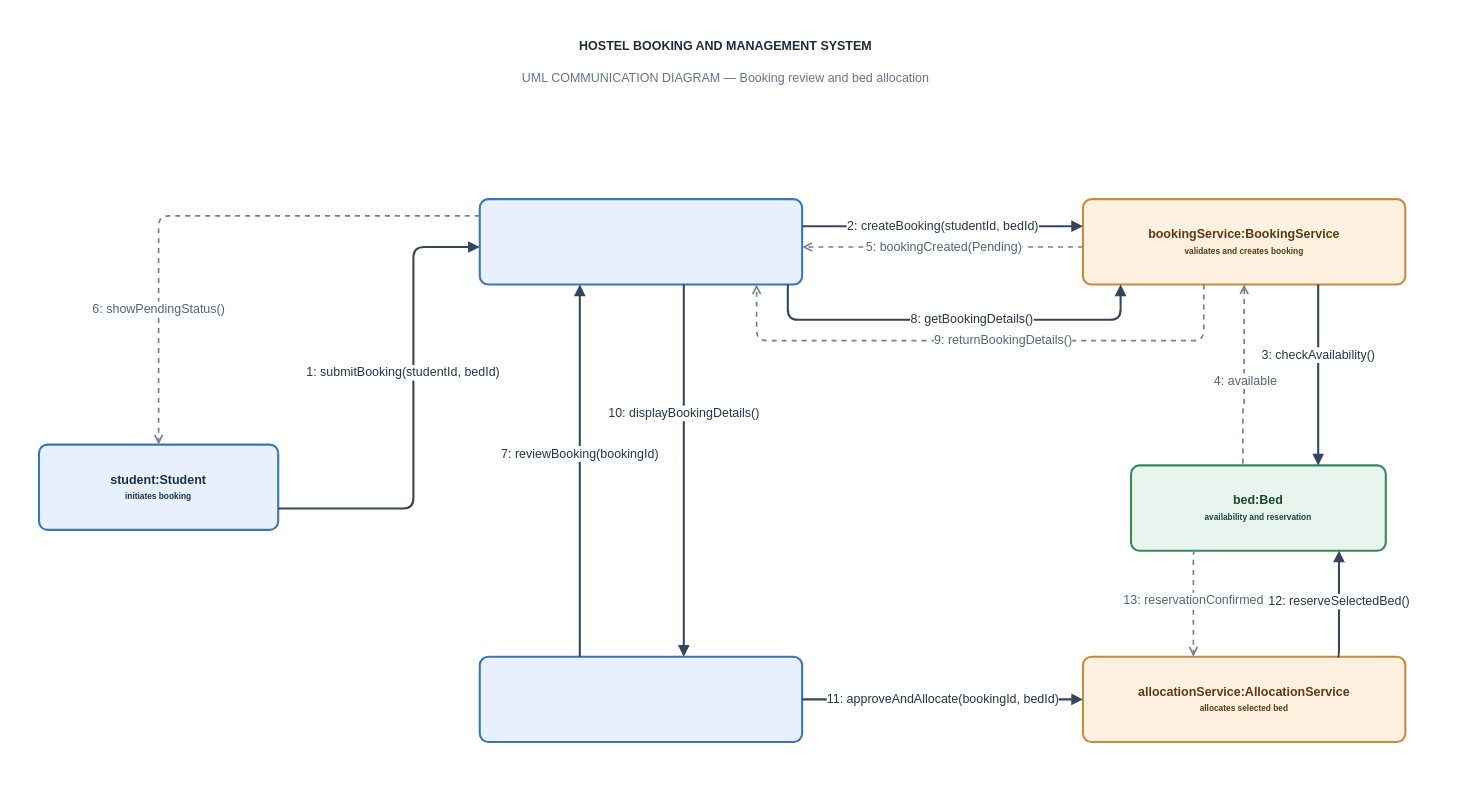
This 1471x805 diagram has some shape labels left out. The centre of each missing label's shape, as x and y in pixels:
bookingController:BookingController handles booking requests: point 640,241
warden:Warden reviews booking request: point 640,699
